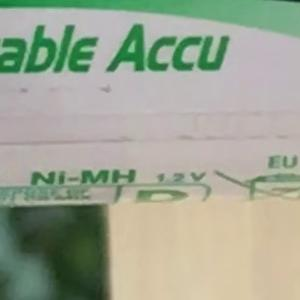keyword: (22, 160, 145, 194)
